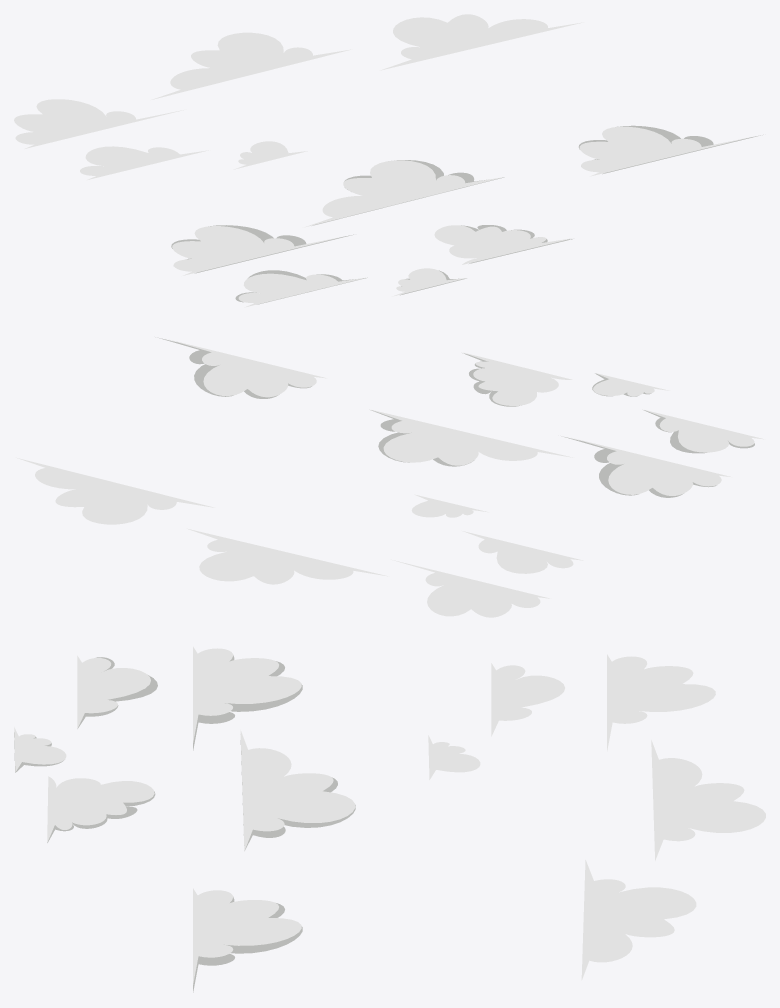
Rendered from Clouds.FBX.
The picture shows the model from 3 angles, top to bottom: view 1: azimuth 30°, elevation 25°; view 2: azimuth 150°, elevation 25°; view 3: azimuth 270°, elevation 25°; orthographic projection. The views are drawn at different scales.
Parts seen in each view (by area): view 1: Object002, Shape3, Object008, Object006, Object001, Object010, Object003, Object005, Object009, Object004, Object007; view 2: Object002, Object008, Shape3, Object006, Object001, Object010, Object003, Object005, Object009, Object004, Object007; view 3: Object002, Object008, Shape3, Object001, Object006, Object010, Object003, Object005, Object009, Object004, Object007.
Part boxes in pixels (x1,y1,x2,y2): Object002: (304, 160, 504, 227); Shape3: (151, 32, 350, 99); Object008: (380, 14, 583, 70); Object006: (171, 225, 353, 275); Object001: (578, 125, 763, 176); Object010: (14, 99, 183, 148); Object003: (434, 225, 573, 264); Object005: (235, 270, 367, 307); Object009: (80, 146, 208, 179); Object004: (392, 268, 466, 296); Object007: (233, 141, 307, 169); Object002: (369, 409, 572, 466); Object008: (16, 457, 214, 524); Shape3: (187, 528, 387, 584); Object006: (561, 436, 730, 497); Object001: (155, 337, 326, 398); Object010: (391, 559, 549, 617); Object003: (462, 352, 572, 406); Object005: (642, 409, 763, 453); Object009: (462, 531, 583, 573); Object004: (592, 373, 669, 396); Object007: (411, 494, 488, 517); Object002: (240, 730, 355, 851); Object008: (581, 860, 696, 980); Shape3: (651, 740, 765, 860); Object001: (193, 888, 302, 992); Object006: (193, 646, 302, 750); Object010: (607, 654, 715, 751); Object003: (47, 776, 155, 842); Object005: (77, 655, 157, 728); Object009: (491, 663, 564, 736); Object004: (14, 727, 66, 772); Object007: (428, 735, 480, 779).
Size of the model in its own units: 3.04 by 0.00732 by 2.79.
Materials: 1 (1 with a texture image).
